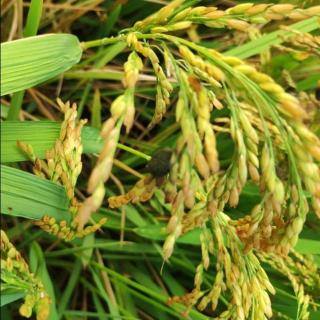Gosong-Palsu: (142, 147, 174, 179), (273, 156, 291, 182)
